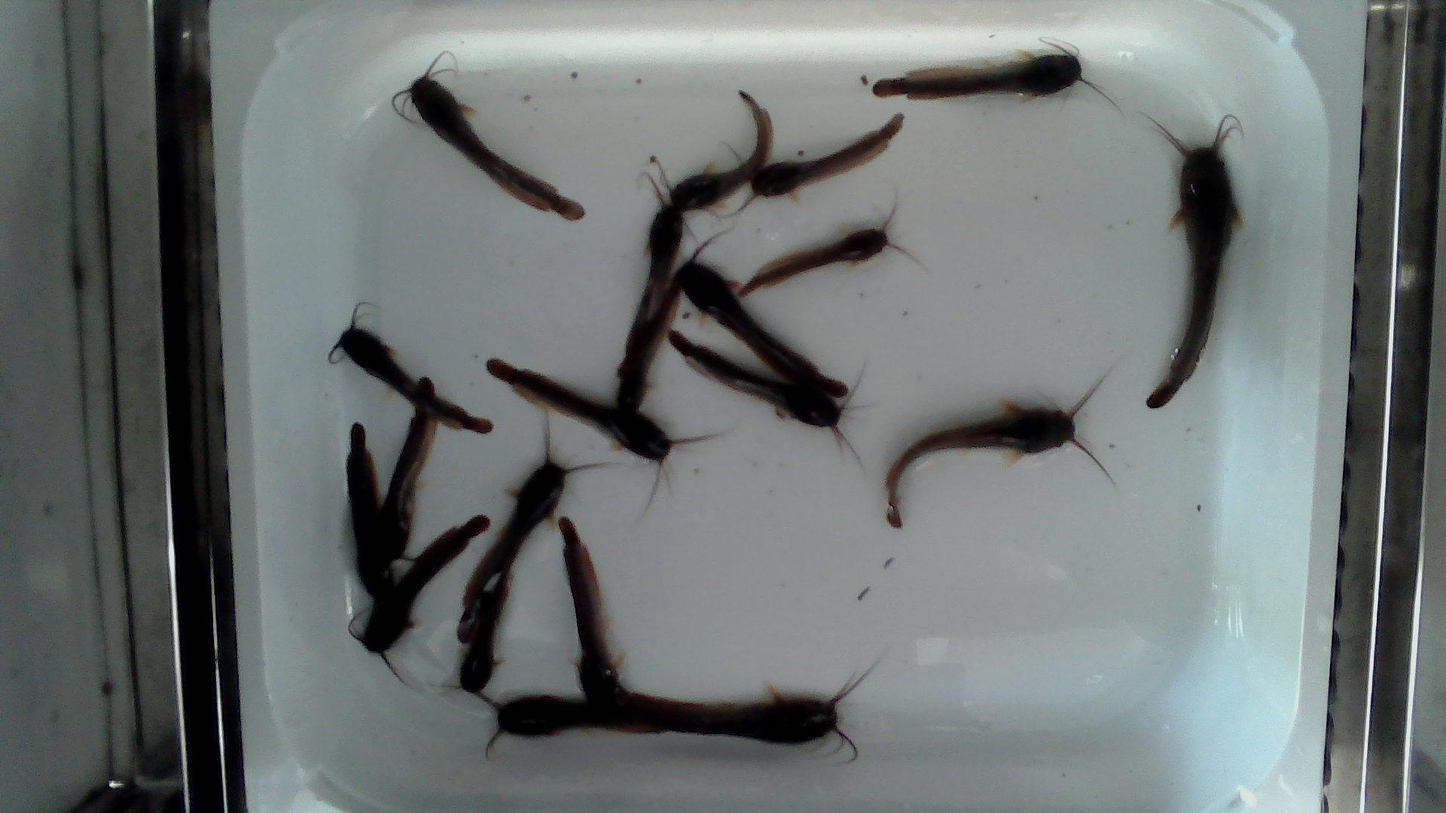lele: (488, 356, 716, 508), (884, 376, 1111, 528), (458, 418, 610, 642), (392, 51, 584, 220), (1146, 115, 1240, 408), (613, 662, 874, 761), (667, 329, 862, 461), (678, 263, 850, 397), (349, 517, 490, 679), (327, 303, 493, 435), (728, 113, 903, 214), (734, 201, 907, 296), (474, 691, 691, 754), (672, 91, 771, 210), (618, 263, 696, 413), (560, 515, 618, 711), (871, 47, 1085, 99), (379, 376, 438, 559), (626, 176, 684, 354), (344, 423, 392, 599), (461, 570, 508, 694)
